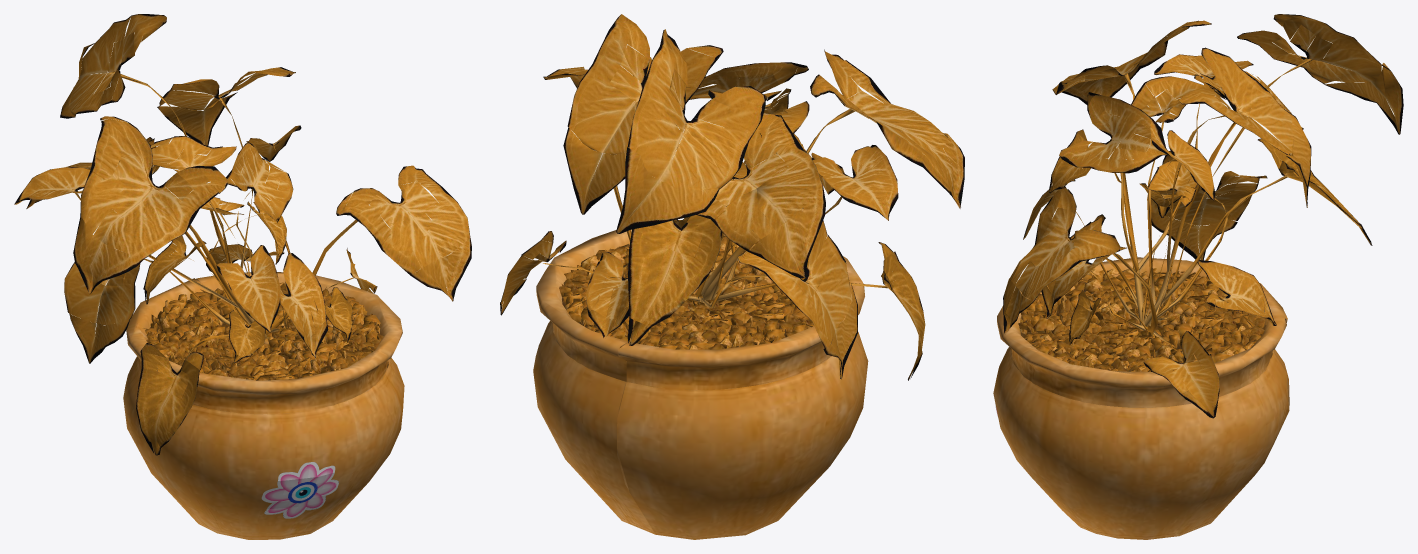
Rendered from nyb_lobby_palm.glb.
The picture shows the model from 3 angles, left to right: view 1: azimuth 30°, elevation 25°; view 2: azimuth 150°, elevation 25°; view 3: azimuth 270°, elevation 25°; orthographic projection. The views are drawn at different scales.
Parts seen in each view (by area): view 1: potted_plant_02_pot, stk_eyeflower_die.png; view 2: potted_plant_02_pot; view 3: potted_plant_02_pot.
Boxes of the visible parts, x1,y1,x2,y2 form: potted_plant_02_pot: (14, 14, 471, 539); stk_eyeflower_die.png: (261, 462, 338, 518); potted_plant_02_pot: (500, 14, 964, 539); potted_plant_02_pot: (993, 14, 1403, 539).
Size of the model in its own units: 0.7008 by 0.8423 by 0.6581.
3 materials, 3 textured.
